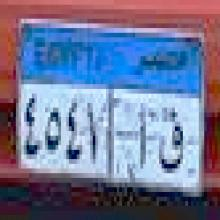1: (85, 101, 100, 163)
4: (23, 94, 37, 156), (66, 101, 79, 160)
5: (46, 105, 62, 150)
alif: (135, 103, 150, 170)
qaaf: (157, 107, 184, 175)
